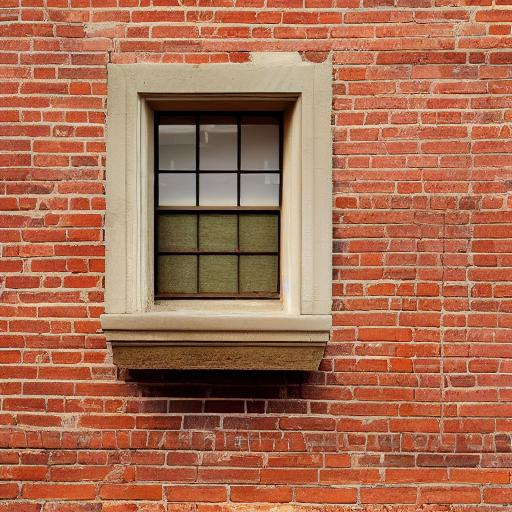Window: (99, 63, 338, 376)
